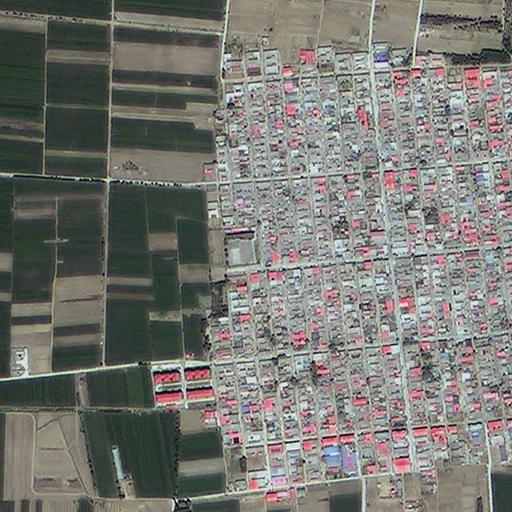school: (210, 225, 261, 275)
